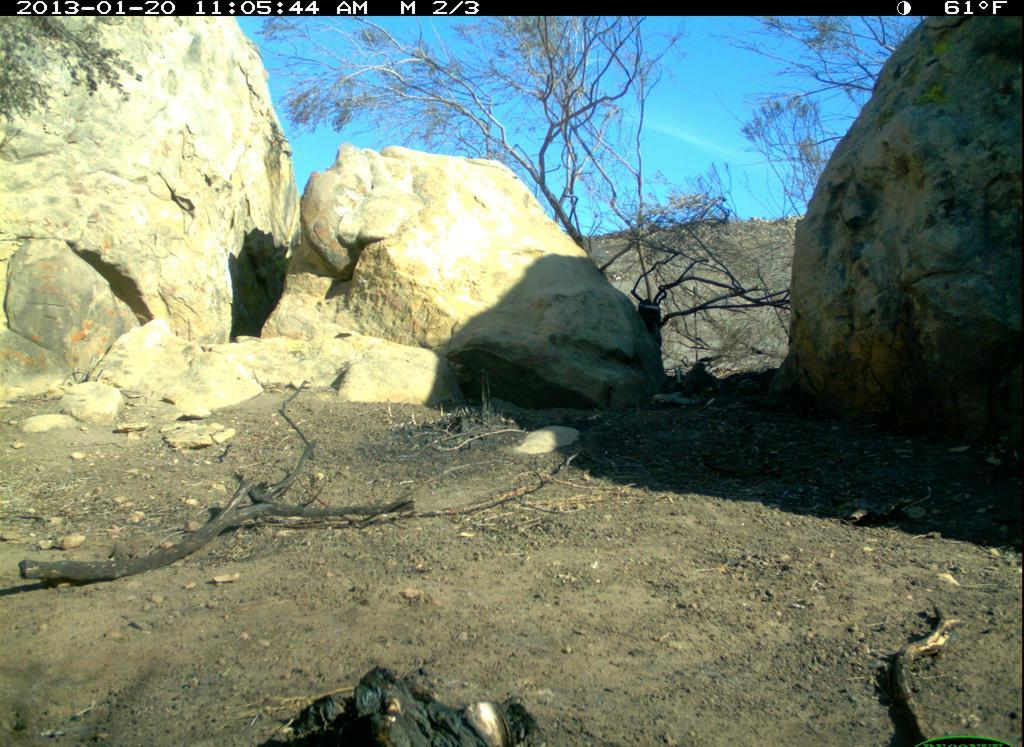bird: (680, 362, 712, 401)
